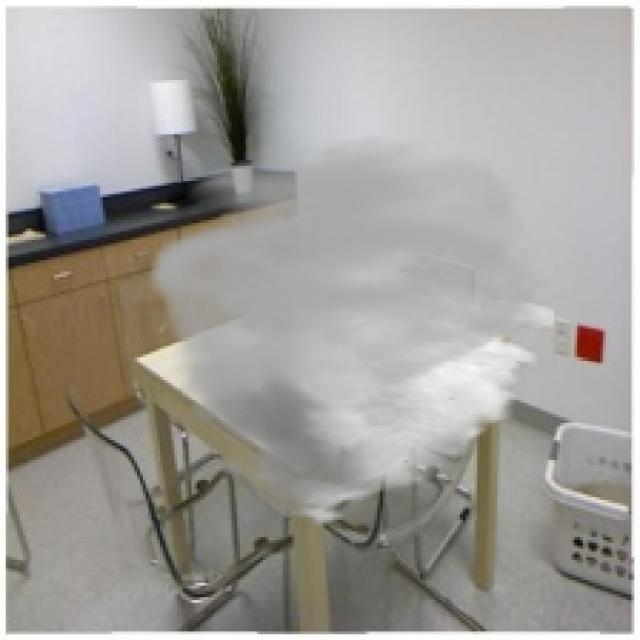Smoke: (142, 134, 554, 529)
